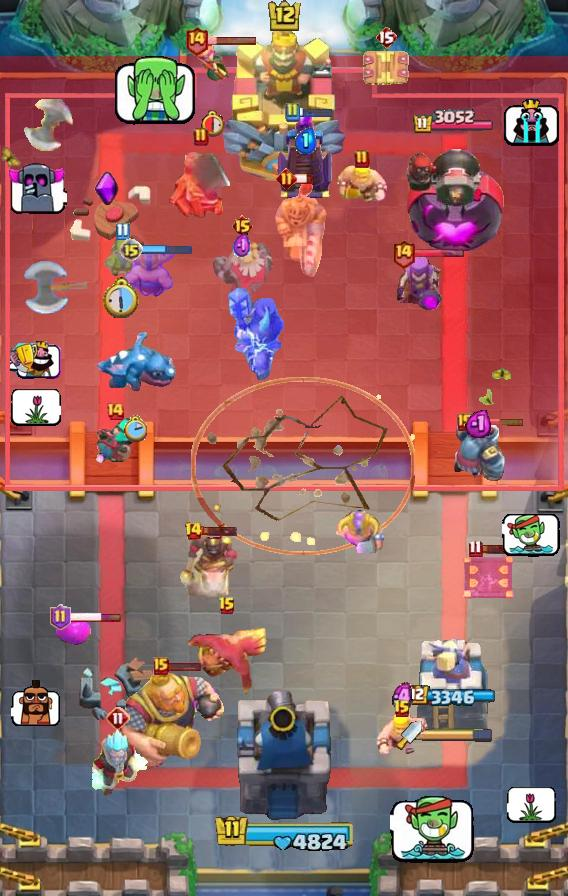archer: (374, 710, 430, 758), (334, 160, 390, 204)
bar: (416, 637, 490, 731)
cannon: (194, 41, 234, 93)
clock: (210, 813, 358, 855)
electro-spirit: (465, 408, 491, 438), (294, 126, 317, 154), (392, 682, 413, 712), (233, 232, 251, 260)
elixir: (103, 277, 141, 319), (201, 109, 227, 137), (123, 415, 147, 442)
elixir-golem-small: (450, 421, 506, 481)
emote: (141, 244, 193, 257), (68, 612, 122, 623), (206, 35, 258, 46), (413, 248, 465, 259), (471, 417, 525, 427), (201, 525, 239, 537), (480, 543, 517, 555), (297, 106, 333, 118), (166, 660, 202, 672), (294, 173, 314, 185)
freeze: (178, 532, 240, 600)
giant-skeleton: (115, 669, 229, 773)
goblin-brawler: (362, 47, 410, 89)
goblin-giant: (121, 246, 177, 300), (335, 511, 385, 553)
graveyard: (93, 330, 177, 394)
guard: (191, 376, 415, 555)
ice-spirit-evolution-symbol: (275, 108, 335, 200), (461, 552, 515, 602)
inferno-dragon: (227, 286, 285, 380)
king-tower: (220, 21, 348, 181), (232, 686, 336, 826)
king-tower-bar: (422, 728, 494, 742)
miner: (55, 617, 91, 647)
mortar: (85, 728, 151, 798)
mortar-evolution: (211, 236, 273, 296)
mother-witch: (184, 620, 270, 704)
ram-rider: (270, 179, 328, 279)
rascal-girl: (395, 254, 447, 316)
royal-giant: (21, 260, 87, 316), (20, 99, 86, 151)
royal-giant-evolution: (167, 152, 235, 222)
selected: (413, 109, 496, 135), (408, 685, 498, 708)
skeleton: (112, 56, 200, 126), (389, 796, 474, 864), (5, 161, 66, 215), (504, 95, 561, 147), (502, 511, 560, 557), (11, 679, 61, 727), (10, 340, 62, 380), (11, 388, 61, 426), (508, 785, 557, 822)
skeleton-king-skill: (94, 170, 120, 206)
text: (183, 25, 208, 56), (392, 238, 417, 269), (119, 238, 143, 262), (106, 706, 130, 730), (230, 214, 253, 238), (50, 604, 71, 630), (375, 25, 397, 49), (275, 168, 296, 189), (105, 401, 125, 421), (184, 521, 203, 541), (218, 596, 236, 616), (393, 699, 411, 719), (284, 102, 300, 122), (193, 127, 209, 147), (354, 149, 370, 169), (457, 413, 473, 431), (153, 657, 169, 675), (115, 223, 130, 242), (469, 539, 483, 557)
tower-bar: (401, 138, 505, 256)
witch: (92, 418, 138, 468)
zap: (100, 239, 144, 281)
